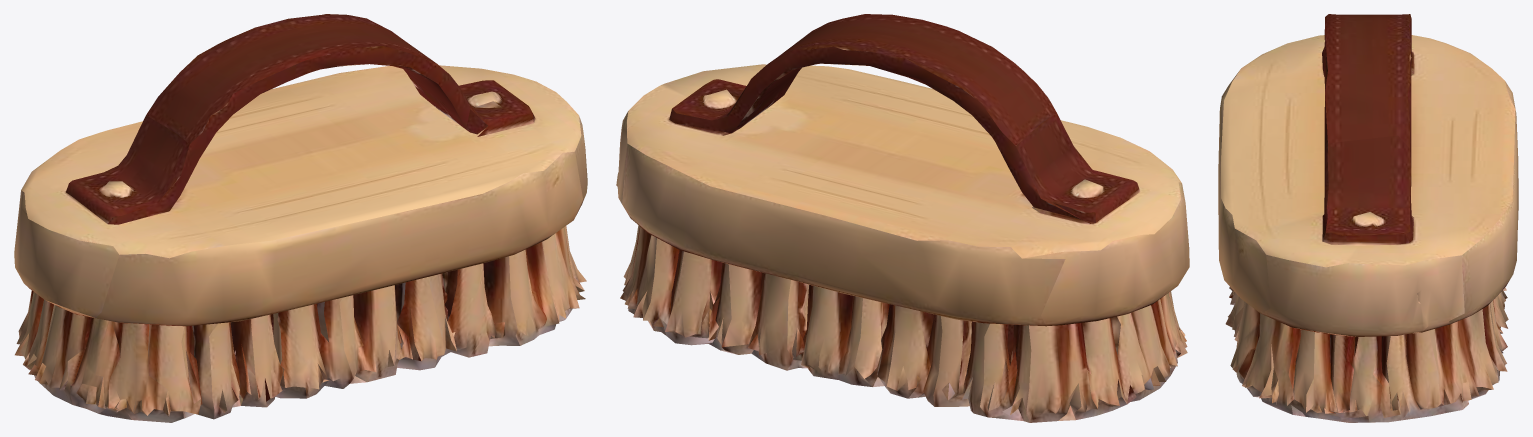
File: brush.glb
3 views of the same model, side by side, from view 1: azimuth 30°, elevation 25°; view 2: azimuth 150°, elevation 25°; view 3: azimuth 270°, elevation 25° (orthographic). The views are drawn at different scales.
Parts seen in each view (by area): view 1: item_brush; view 2: item_brush; view 3: item_brush.
Part boxes in pixels (x1,y1,x2,y2): item_brush: [14, 14, 587, 422]; item_brush: [616, 14, 1189, 422]; item_brush: [1218, 14, 1518, 422].
Size of the model in its own units: 1 by 0.5287 by 0.523.
1 material, 1 textured.
